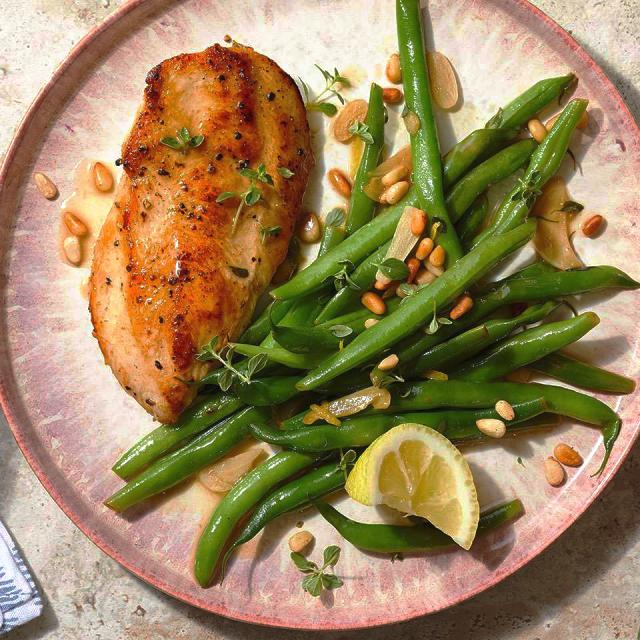String Bean Chicken Breast: (97, 11, 633, 594)
